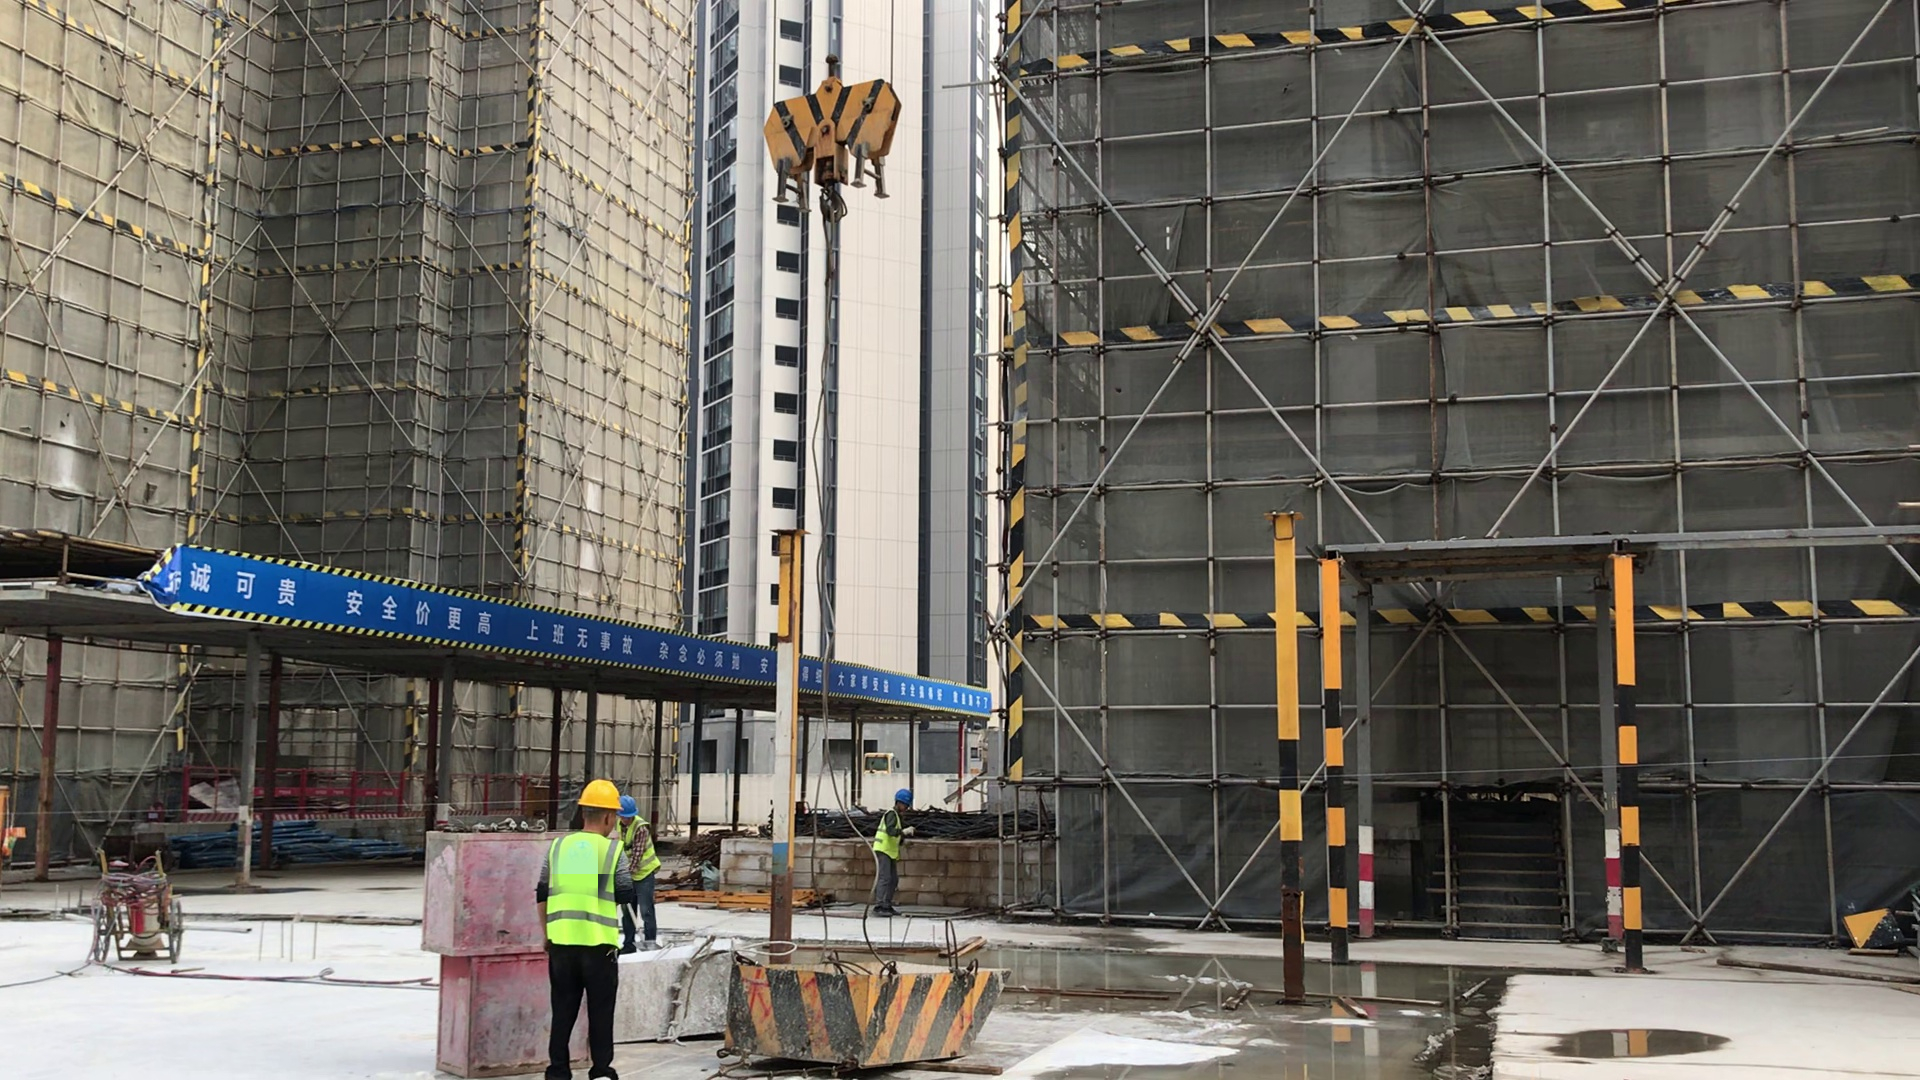fence: (183, 768, 555, 823)
handcart: (93, 846, 179, 962)
helmet: (577, 781, 618, 807), (617, 796, 638, 818), (893, 788, 912, 805)
hook: (763, 51, 901, 224)
hopper: (727, 962, 994, 1064), (620, 943, 736, 1043)
person: (537, 780, 635, 1080), (615, 795, 661, 954), (873, 788, 913, 918)
slogan: (163, 547, 993, 719)
vest: (545, 830, 618, 950), (621, 821, 661, 880), (873, 807, 904, 858)
